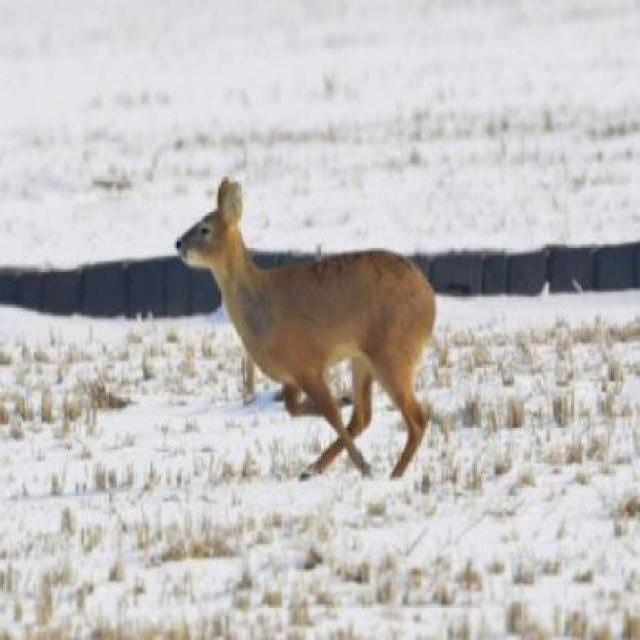deer: (174, 170, 438, 486)
